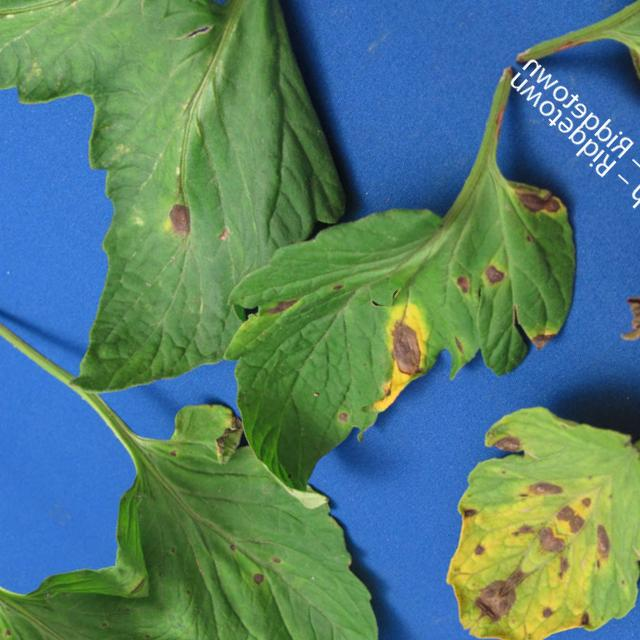Tomato Early blight leaf: (165, 69, 640, 556), (0, 0, 489, 448), (46, 352, 478, 640), (377, 270, 640, 640)
